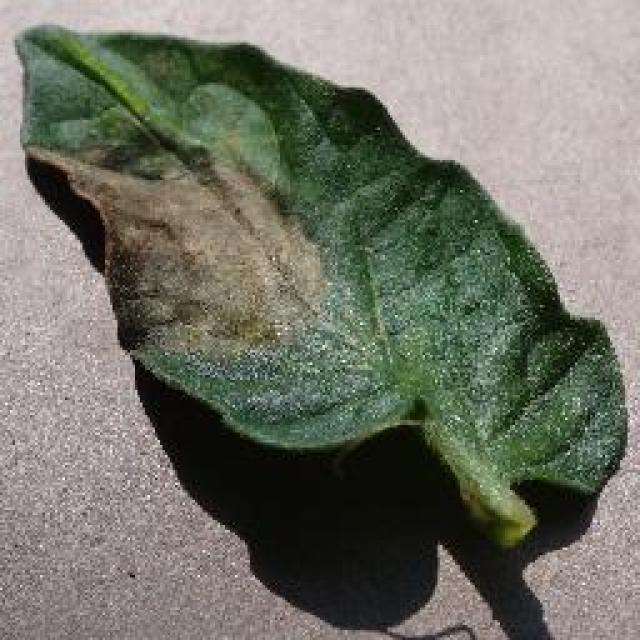Tomato Late Blight: (27, 82, 518, 483)
